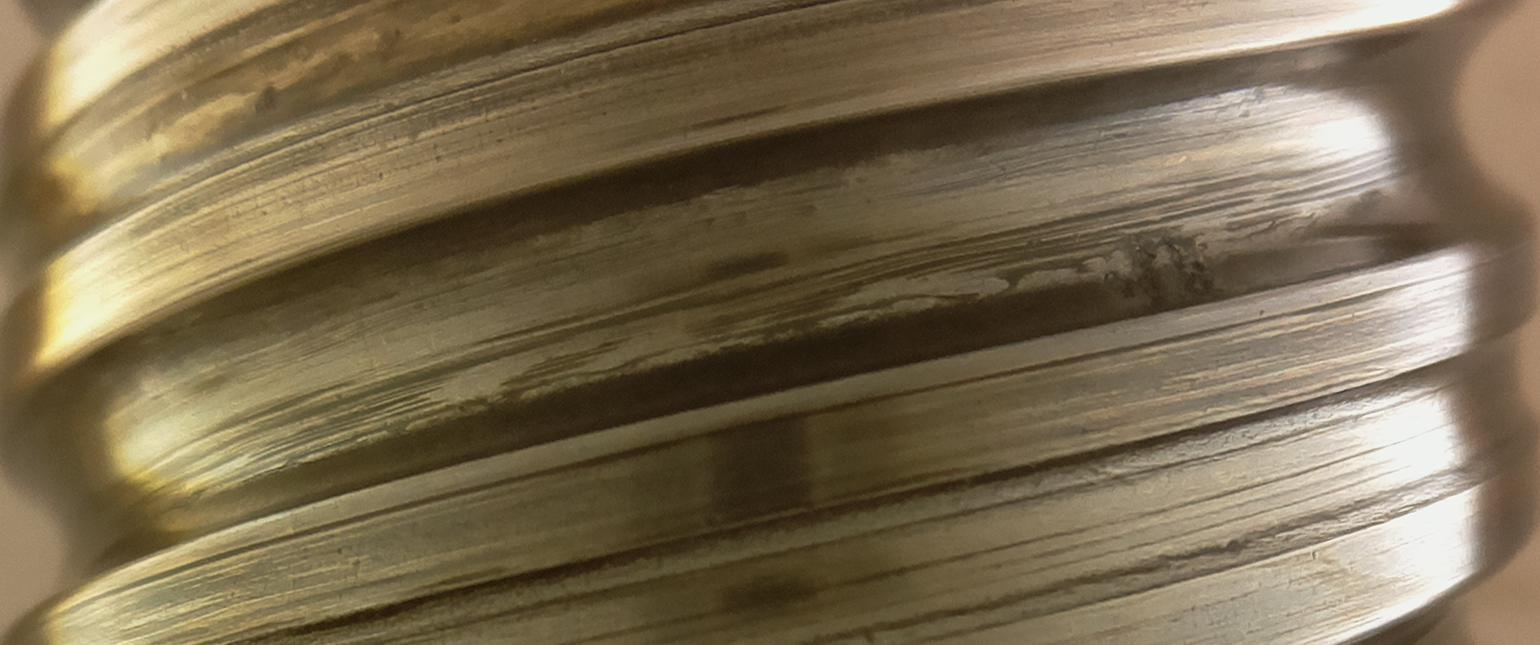pitting: (1103, 245, 1219, 314)
